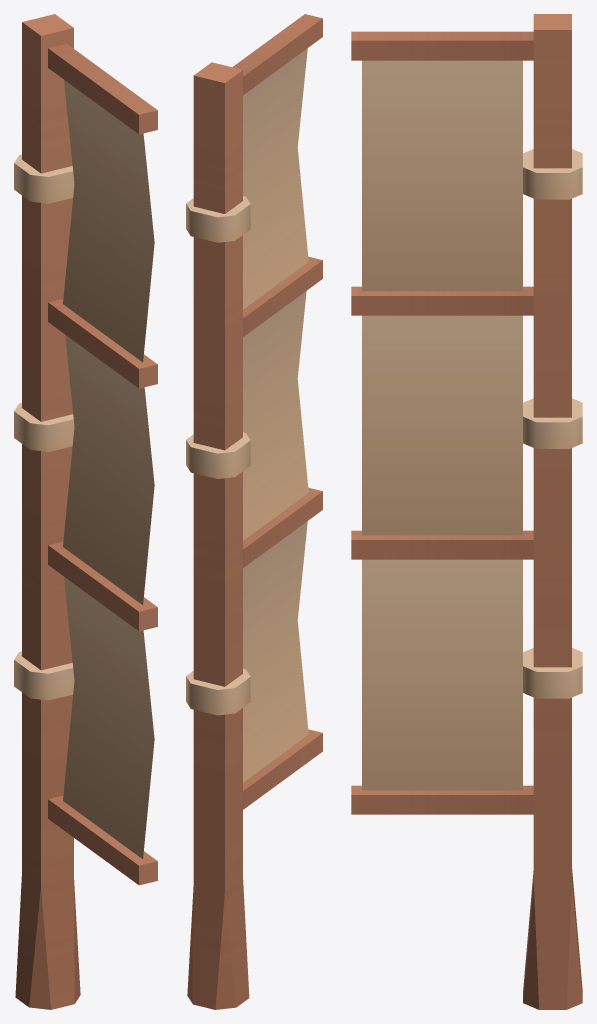
The model's file is blade.fbx.
3 views of the same model, side by side, from view 1: azimuth 30°, elevation 25°; view 2: azimuth 150°, elevation 25°; view 3: azimuth 270°, elevation 25° (orthographic). The views are drawn at different scales.
Visible parts, largest first — view 1: blade; view 2: blade; view 3: blade.
Boxes of the visible parts, left/top/right/bottom form: blade: left=14, top=14, right=157, bottom=1009; blade: left=186, top=14, right=322, bottom=1009; blade: left=351, top=14, right=582, bottom=1009.
Size of the model in its own units: 11.1 by 200 by 43.04.
Materials: 1 (1 with a texture image).
